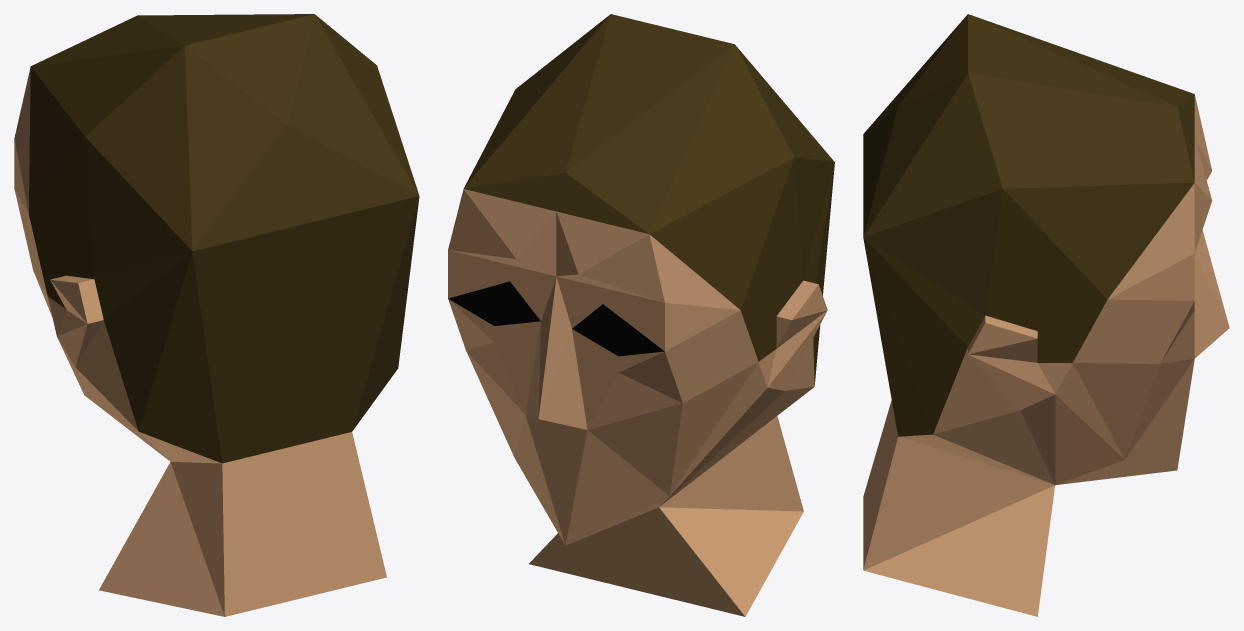
File: player_female_head_51_0.obj
3 views of the same model, side by side, from view 1: azimuth 30°, elevation 25°; view 2: azimuth 150°, elevation 25°; view 3: azimuth 270°, elevation 25° (orthographic). The views are drawn at different scales.
Bounding box in the file's own units: 0.1562 × 0.2578 × 0.1641.
